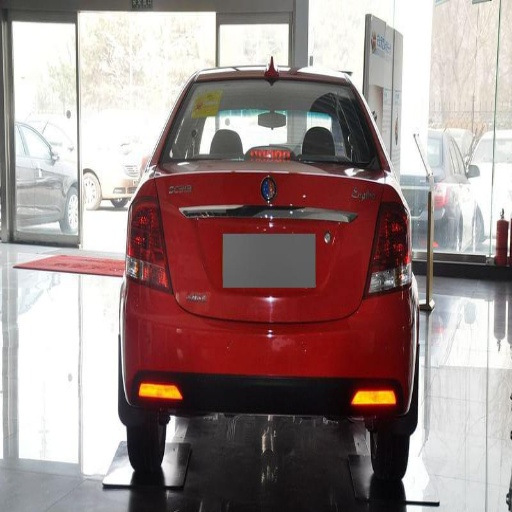back_bumper: (120, 278, 418, 459)
tailgate: (166, 226, 371, 323)
trunk: (155, 161, 387, 300)
